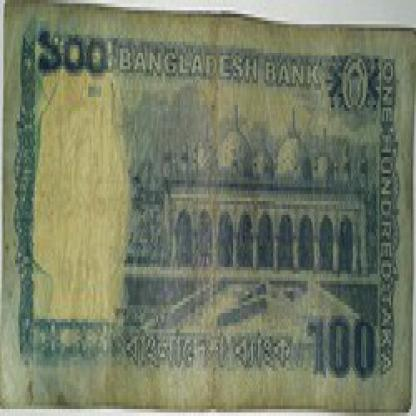one hundred taka: (308, 305, 378, 392), (29, 31, 112, 83)
